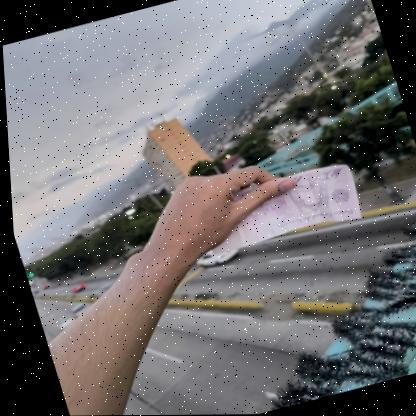one_hundred-back-vef: (191, 159, 365, 256)
